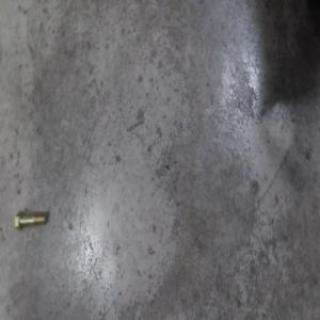Bolttrack_idkeyframe: (15, 209, 47, 232)
